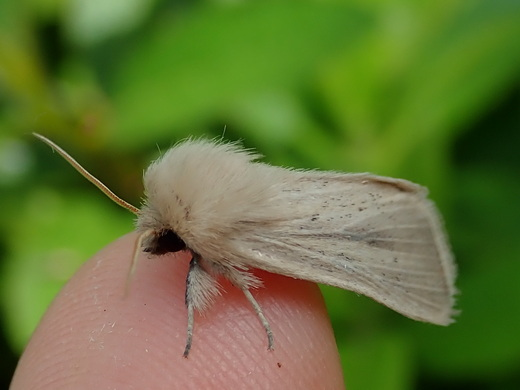Noctuidae: (33, 132, 464, 358)
